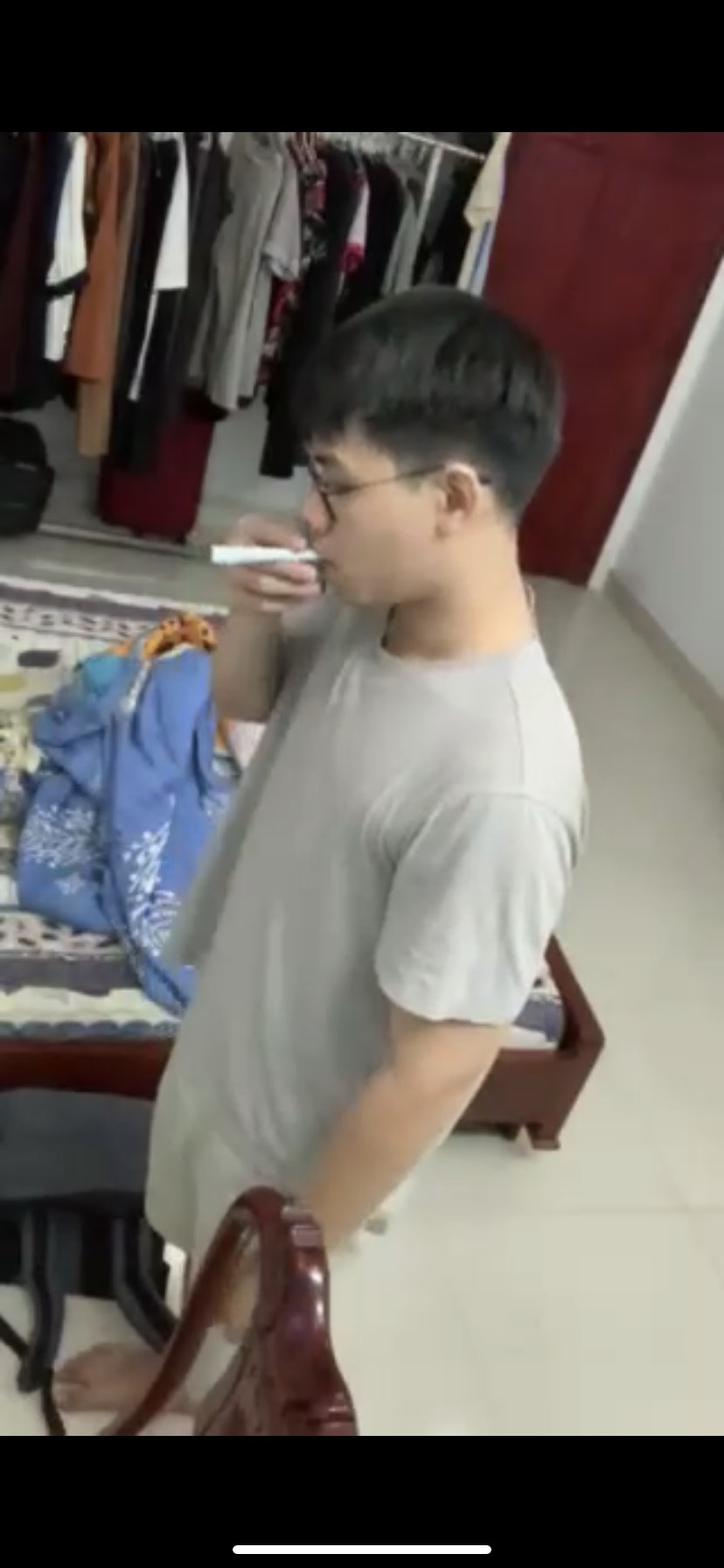cigarette: (190, 520, 328, 579)
person: (115, 275, 590, 1304)
